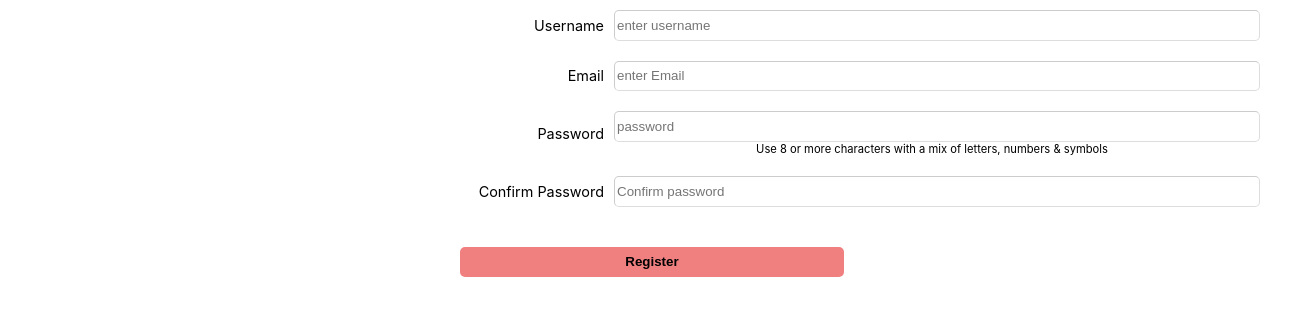
Scenario: RegsiterCompoent › should redirect after succesfull registration
Check: the text "Username" is shown, box [534, 17, 604, 34]
Check: the text "Email" is shown, box [568, 68, 604, 84]
In the field labelled "Username": (937,25) [614, 10, 1260, 41], type "someUser"
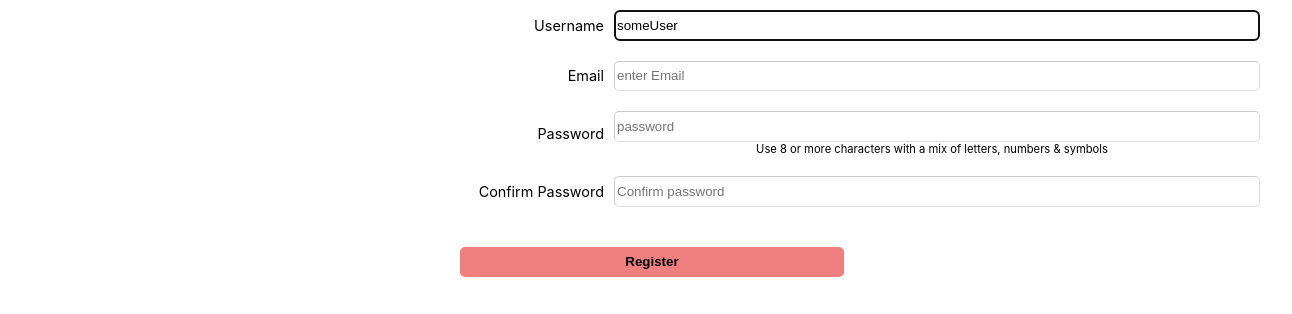
In the field labelled "Email": (937,76) [614, 61, 1260, 91], type "some@email.com"
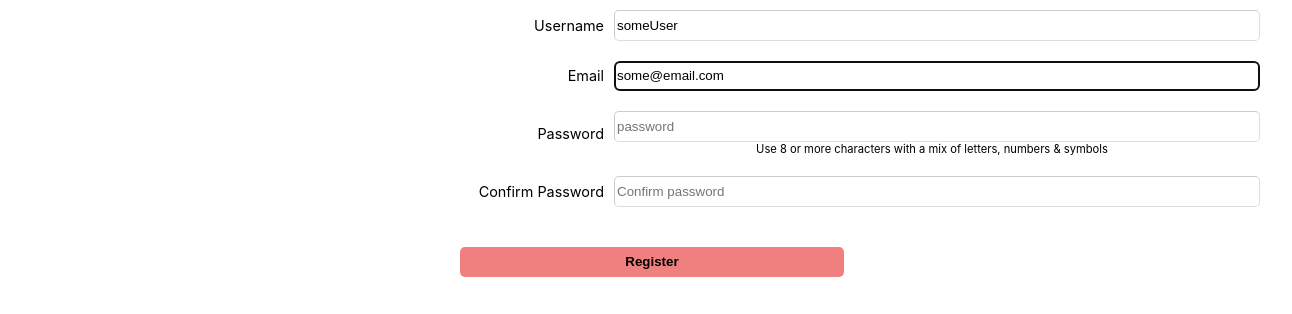
In the password field labelled "Password": (937,127) [614, 111, 1260, 142], type "somePass1234!"
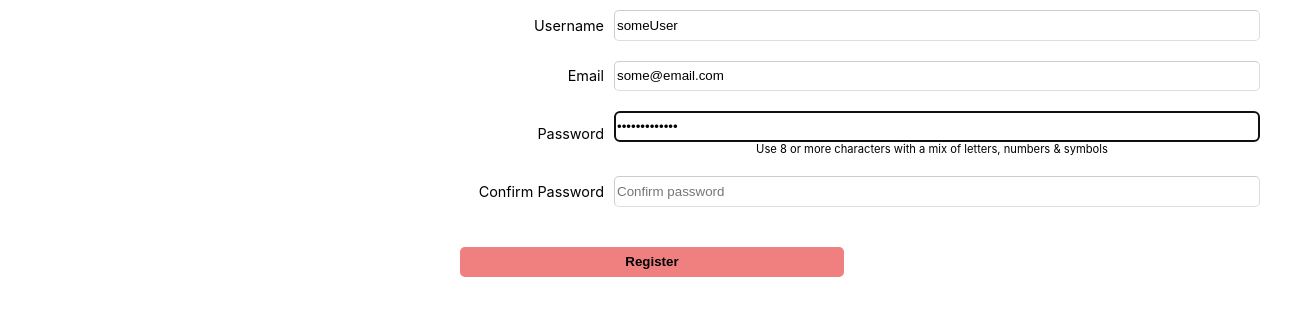
In the password field labelled "Confirm Password": (937,191) [614, 176, 1260, 207], type "somePass1234!"
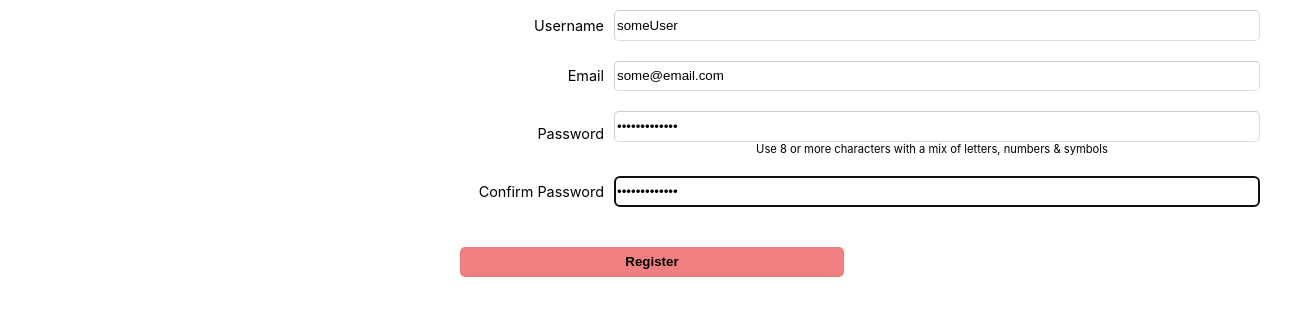
Check: the text "confirmation page" is not shown
Click the button: (652,262) [460, 247, 844, 277]
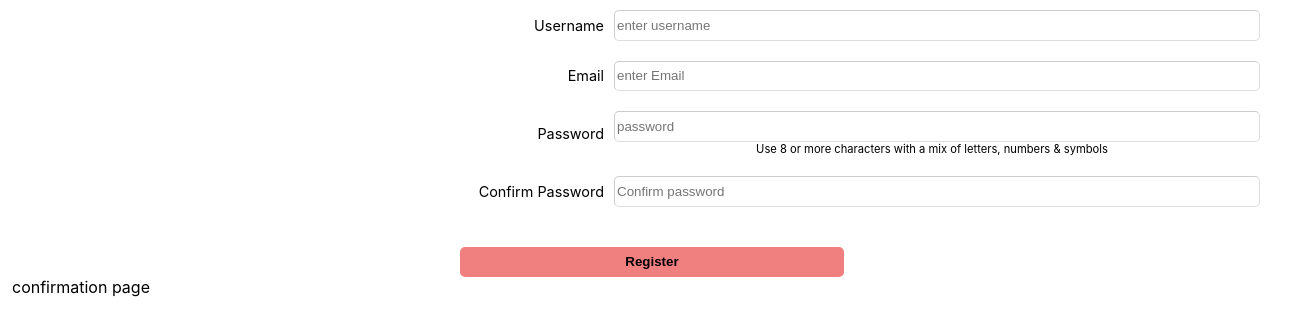
Check: the text "confirmation page" is shown, box [12, 277, 150, 297]
